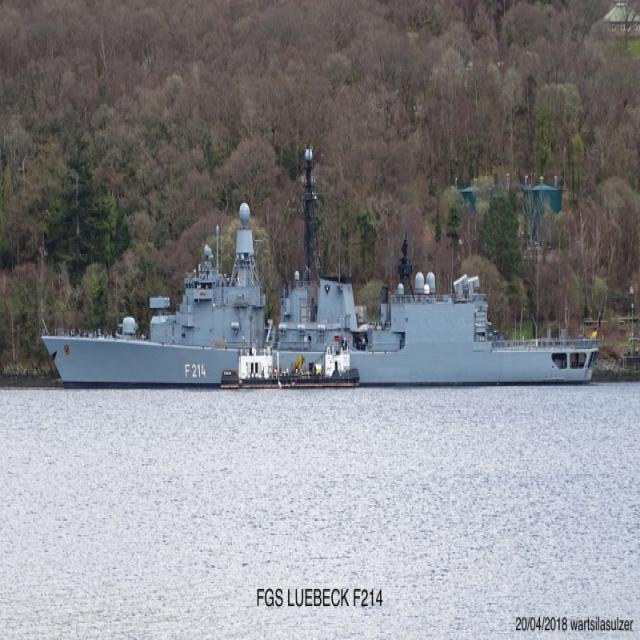Fragata: (37, 142, 600, 394)
